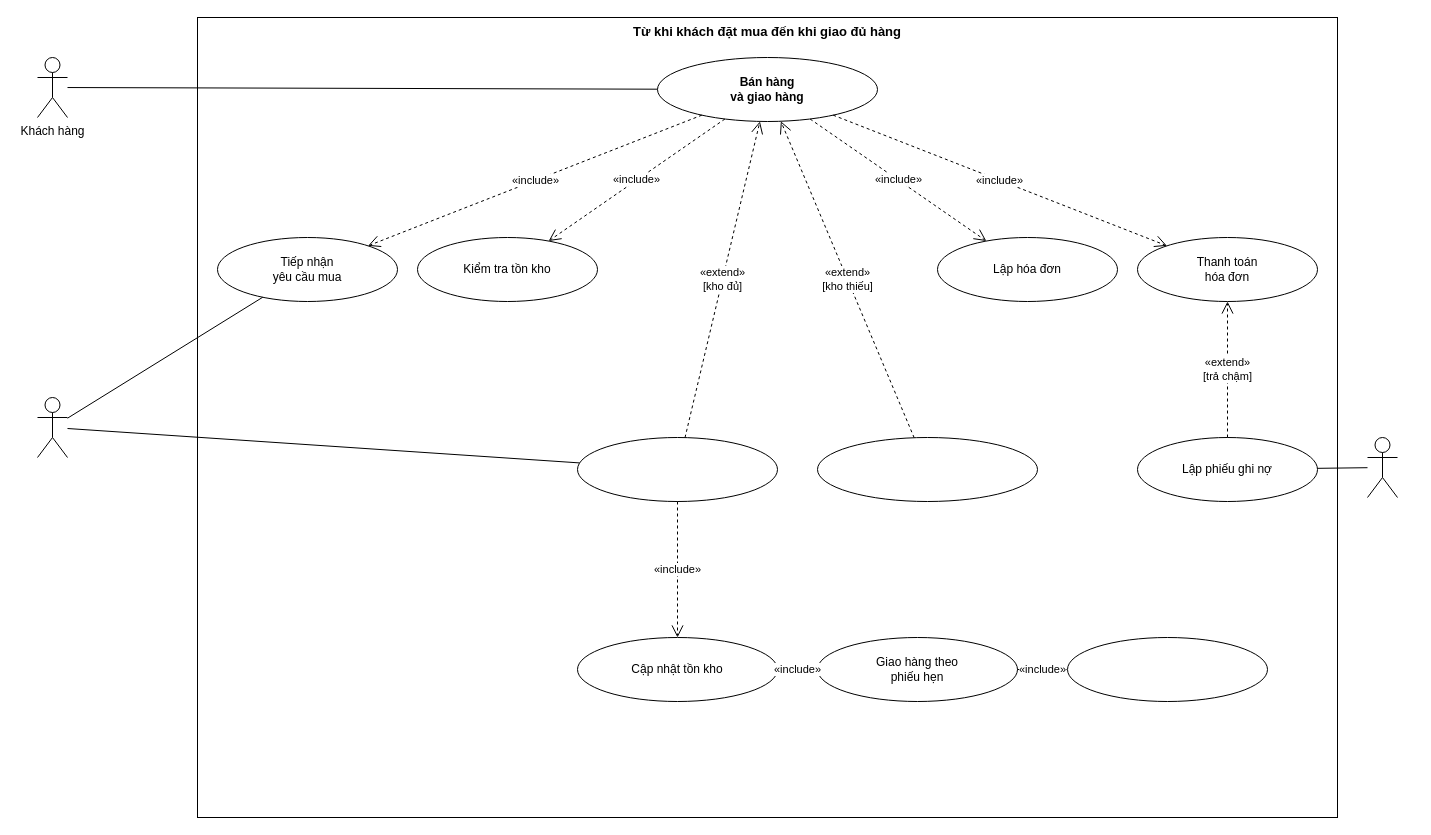
The diagram is 1431 pixels wide and 835 high, and some of its shapes have lost their labels. Each missing label, with the centre of its shape:
"Cập nhật tình trạng giao" belongs at [1167,669].
"Giao hàng ngay" belongs at [677,469].
"Khách quen" belongs at [1382,467].
"Lập phiếu hẹn giao (khách quen, thiếu hàng)" belongs at [927,469].
"NV bán hàng" belongs at [52,427].
